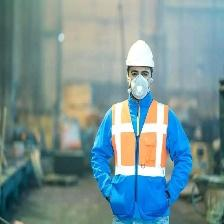Person: (91, 39, 193, 224)
helmet: (126, 40, 155, 70)
vest: (109, 98, 170, 182)
